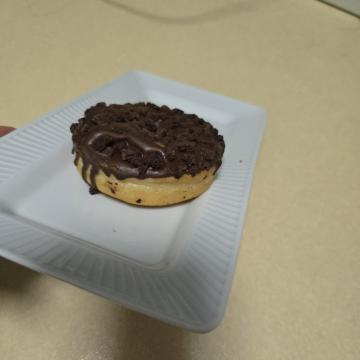doughnut: (86, 124, 222, 306)
